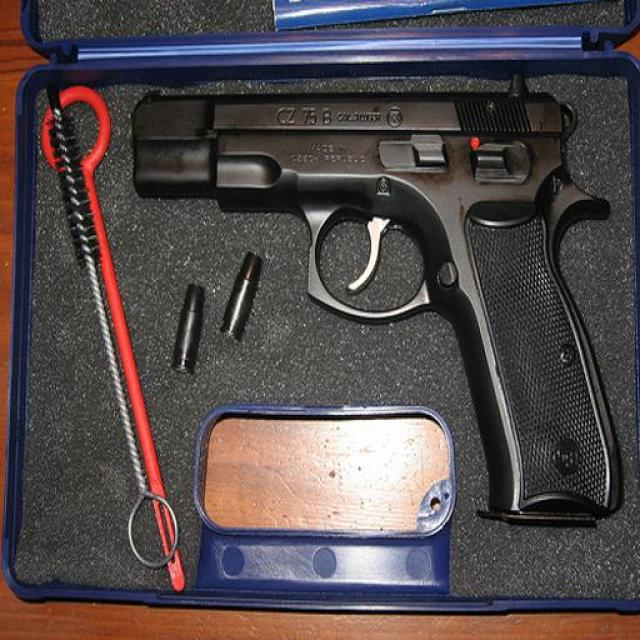pistol: (129, 86, 624, 524)
